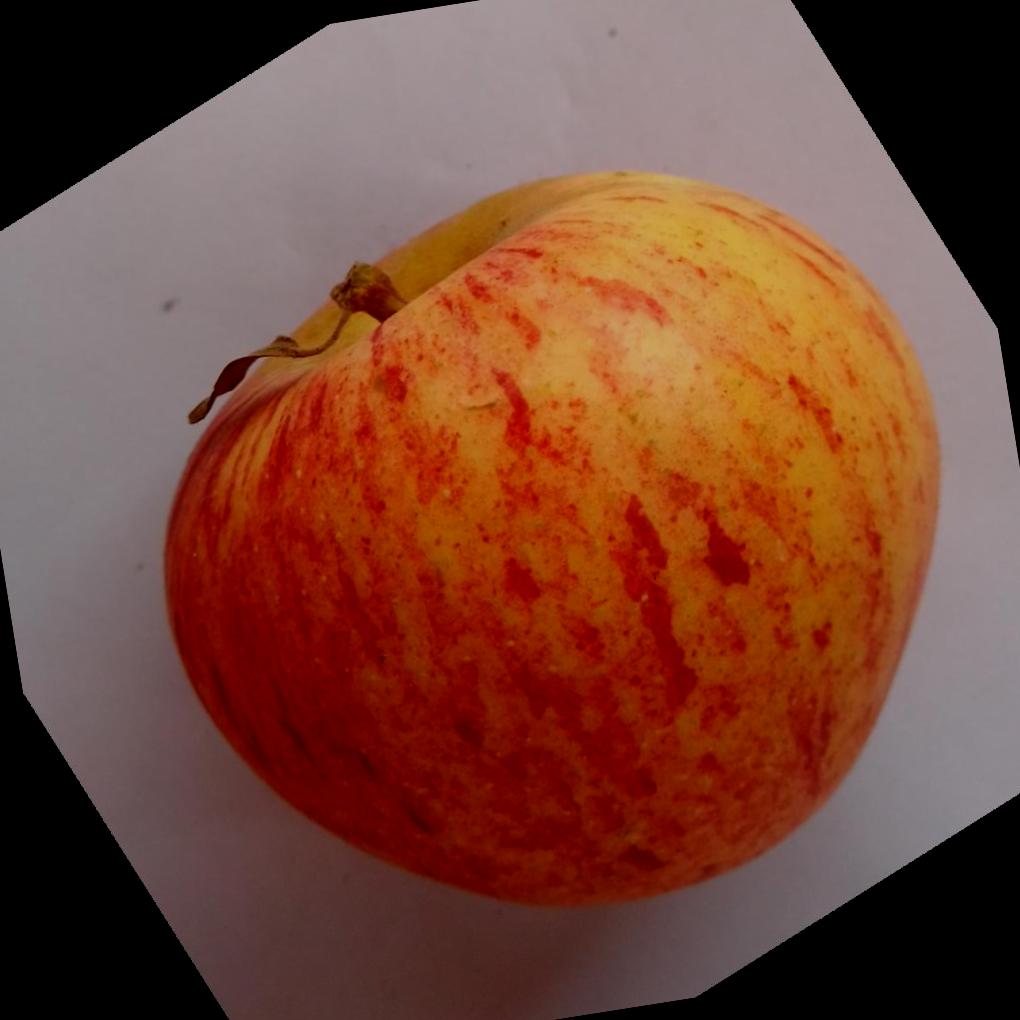FreshGuava: (163, 166, 946, 910)
